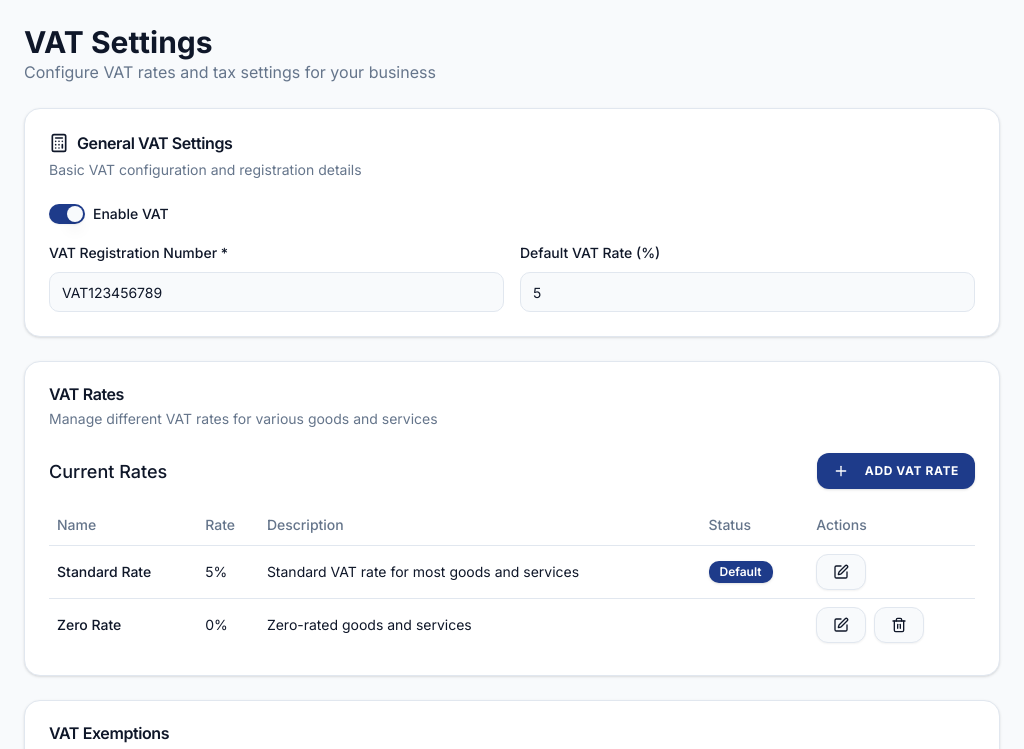
VAT Settings Page › should validate VAT registration number format
The width and height of the screenshot is (1024, 749).
Replace the text in the field showing "VAT123456789" with "123": (276, 292) [49,272,504,312]
(page scrolled)
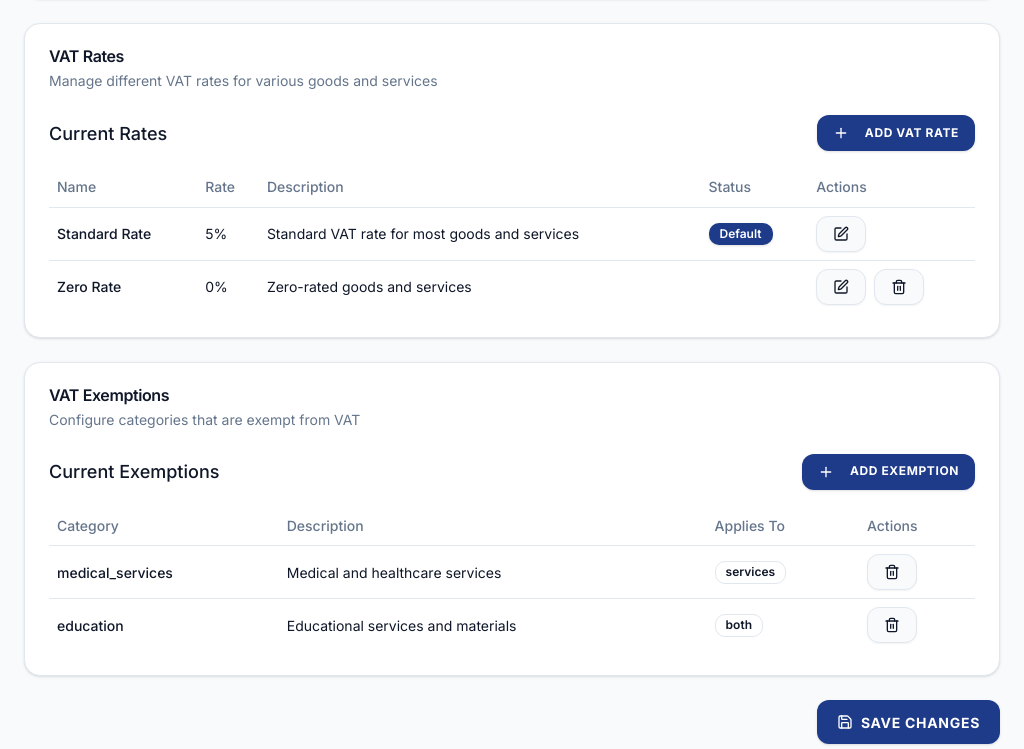
Click the button "Save Changes": (908, 722) [817,700,1000,744]
(page scrolled)
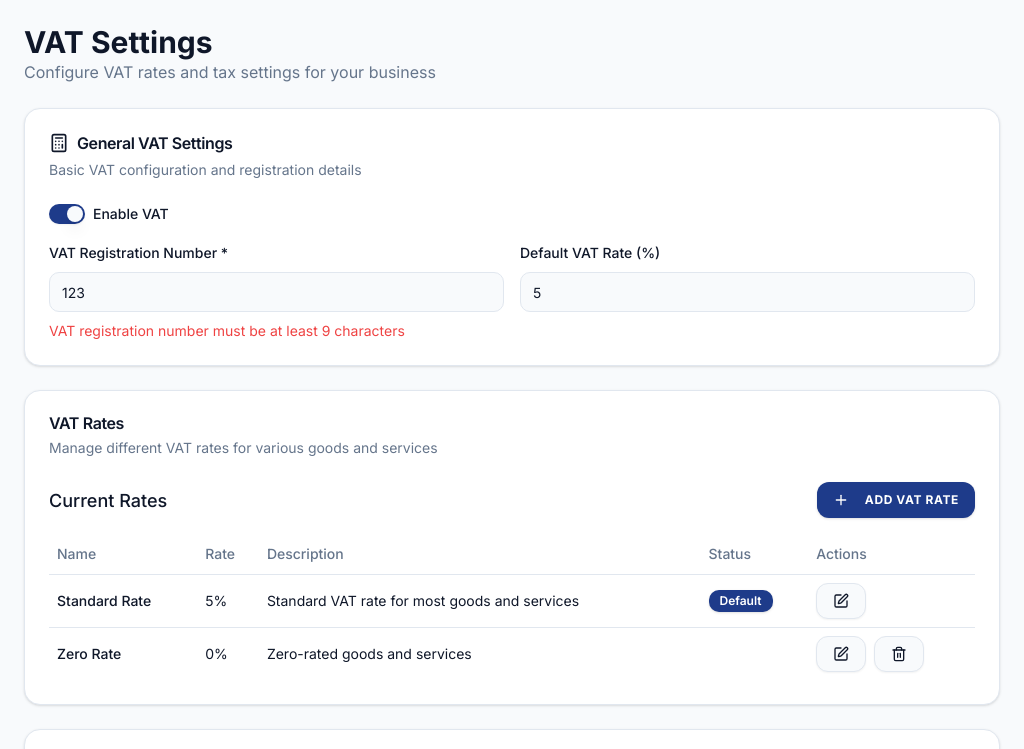
Result: the text "VAT registration number must be at least 9 characters" is shown at [49,322,405,339]
